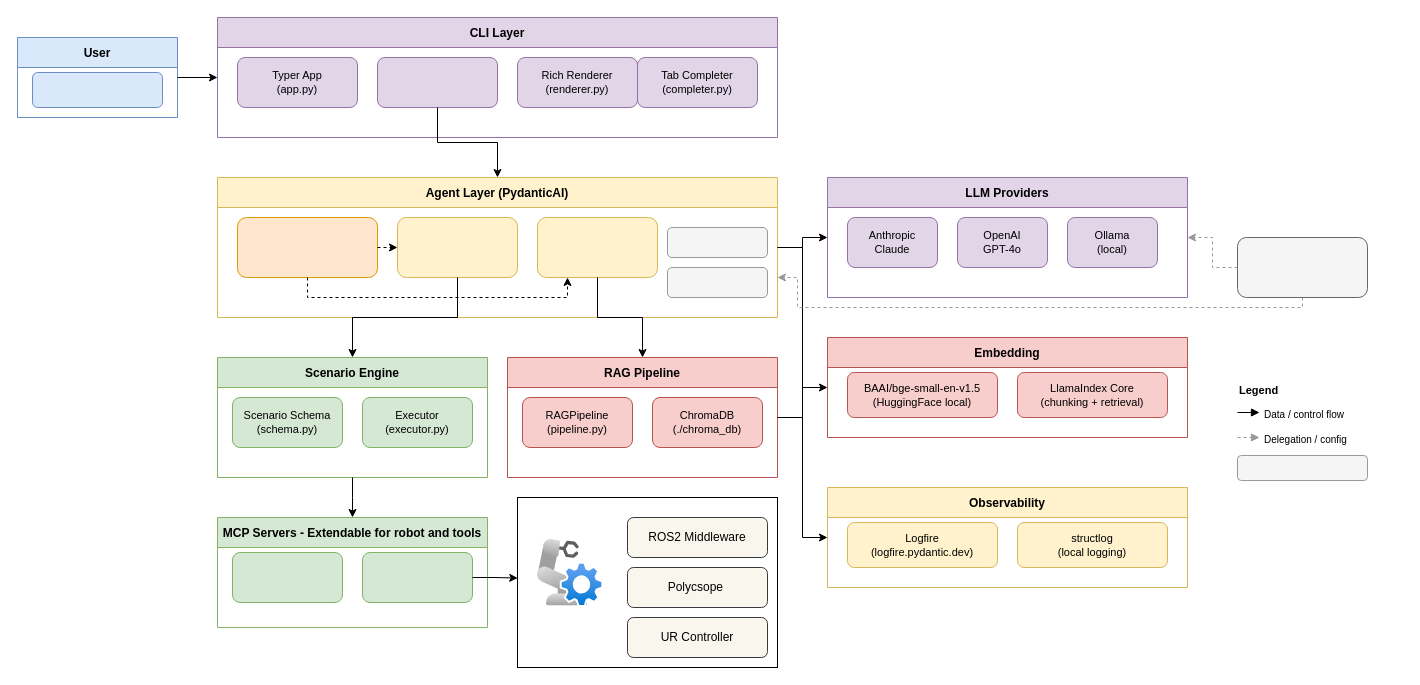
This 1420x685 diagram has some shape labels left out. Here are the shapes that lost their labels. From the top down, the centre of each, then its label:
(x=97, y=90): Terminal / IDE
(x=437, y=82): Interactive REPL (repl.py)
(x=307, y=247): Orchestrator Agent (orchestrator.py)
(x=457, y=247): Robotic Agent (robotic.py)
(x=597, y=247): Config Agent (config_agent.py)
(x=717, y=242): Safety Monitor (Phase 7)
(x=717, y=282): Perception Agent (Phase 7)
(x=1302, y=267): cobot.yaml (CobotConfig)
(x=1302, y=467): Future phase
(x=287, y=577): UR3e Arm (ur3e_arm_mcp.py)
(x=417, y=577): Robotiq Gripper (server.py)
